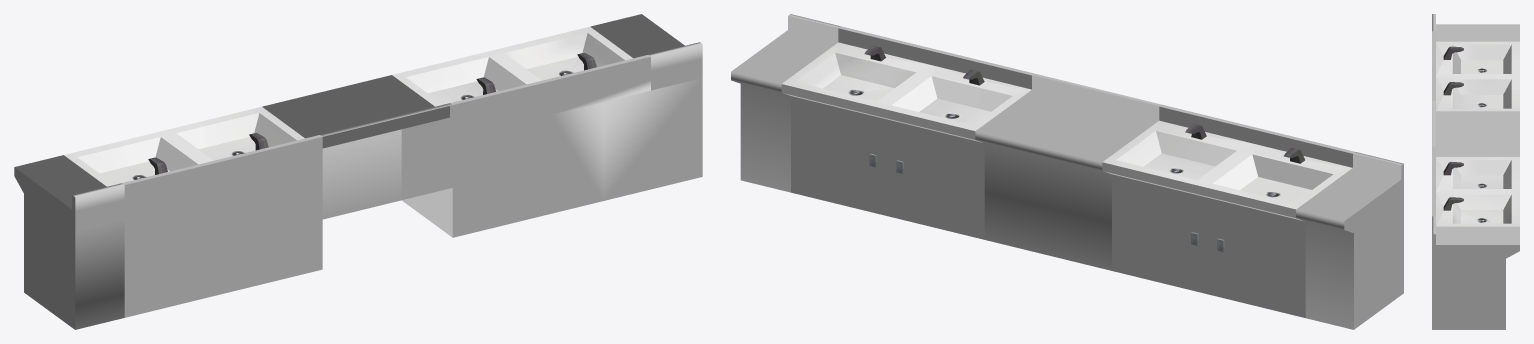
File: wastafel.fbx
The picture shows the model from 3 angles, left to right: view 1: azimuth 30°, elevation 25°; view 2: azimuth 150°, elevation 25°; view 3: azimuth 270°, elevation 25°; orthographic projection. The views are drawn at different scales.
Visible parts, largest first — view 1: Plane.005; view 2: Plane.005; view 3: Plane.005.
Part boxes in pixels (x1=…): Plane.005: x1=14, y1=14, x2=702, y2=329; Plane.005: x1=731, y1=14, x2=1403, y2=329; Plane.005: x1=1432, y1=14, x2=1519, y2=329.
Bounding box in the file's own units: 473 × 96.3 × 79.6.
